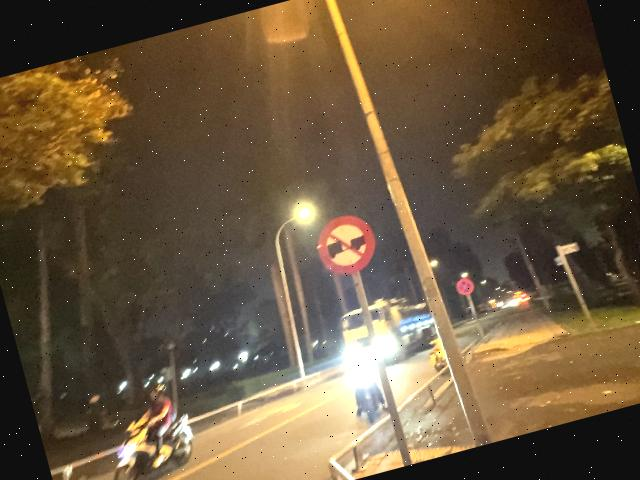cam-xe-somi-romooc: (311, 208, 383, 281)
